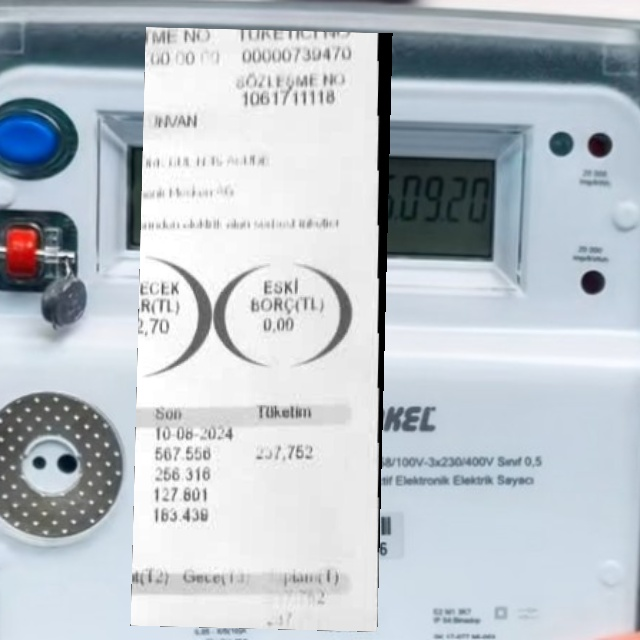electricity-bill: (130, 26, 393, 631)
